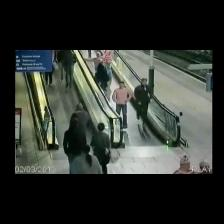person: (63, 118, 86, 173), (113, 82, 135, 128), (91, 123, 110, 173), (71, 145, 102, 173), (135, 79, 151, 122), (71, 103, 90, 133), (62, 50, 76, 90), (96, 62, 109, 91), (85, 52, 102, 73), (174, 156, 193, 173), (56, 50, 65, 81), (195, 161, 212, 173), (45, 64, 54, 86), (88, 50, 91, 58)
